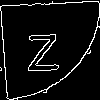Z: (25, 24, 61, 71)
